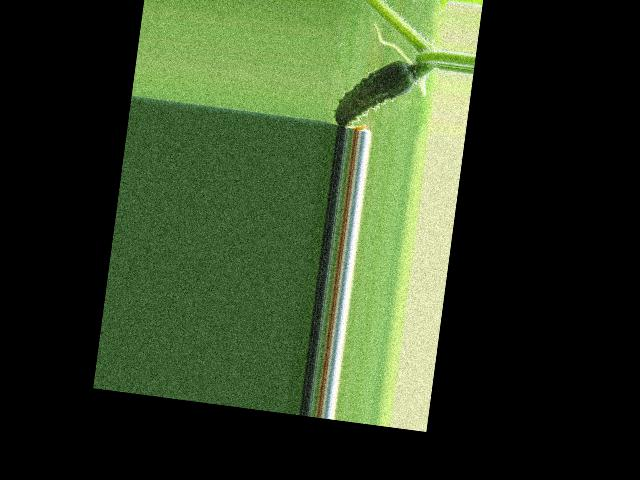cucumber: (332, 52, 416, 134)
